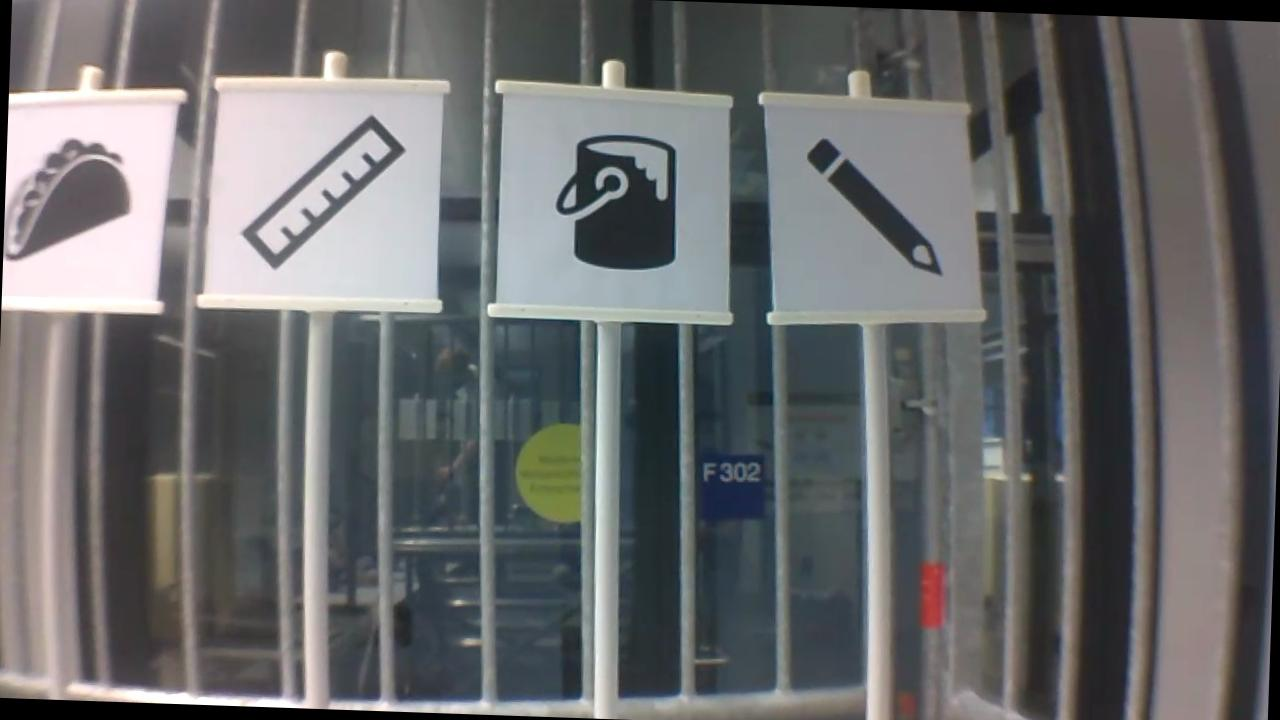bucket: (544, 128, 682, 276)
pencil: (796, 134, 950, 281)
ruler: (233, 103, 410, 279)
taco: (3, 125, 137, 269)
